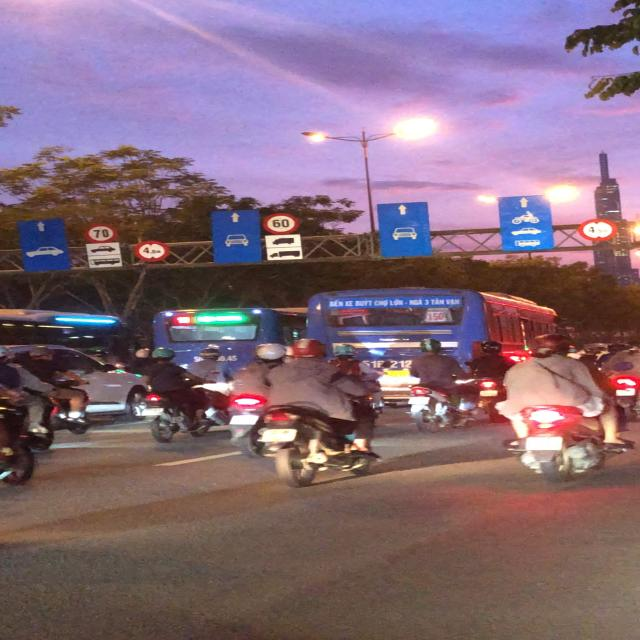Bien bao han che chieu cao: (576, 216, 618, 243), (130, 239, 170, 263)
Bien bao toc do toi da cho phep: (258, 212, 302, 234), (82, 222, 119, 243)
